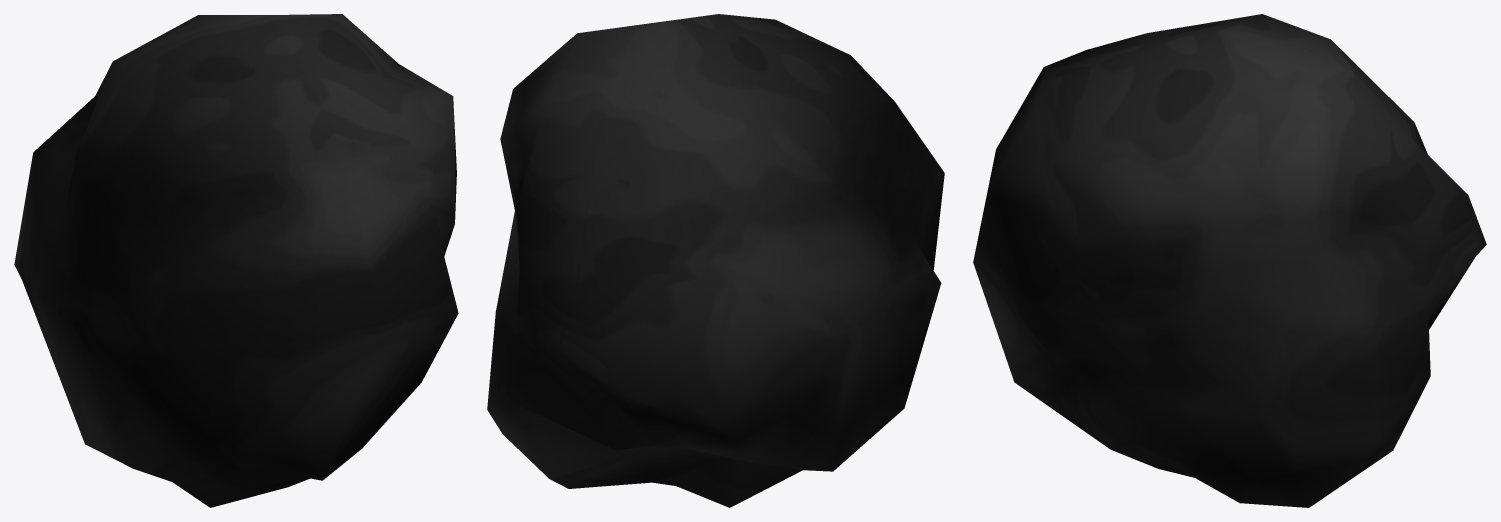
Rendered from 02-Rock.fbx.
3 views of the same model, side by side, from view 1: azimuth 30°, elevation 25°; view 2: azimuth 150°, elevation 25°; view 3: azimuth 270°, elevation 25° (orthographic).
Visible parts, largest first — view 1: 02-CoralRock.040; view 2: 02-CoralRock.040; view 3: 02-CoralRock.040.
Boxes of the visible parts, box(x1,y1,x2,y2) form: 02-CoralRock.040: box(14, 14, 458, 507); 02-CoralRock.040: box(487, 14, 944, 507); 02-CoralRock.040: box(973, 14, 1486, 507).
Bounding box in the file's own units: 182 × 214 × 215.
